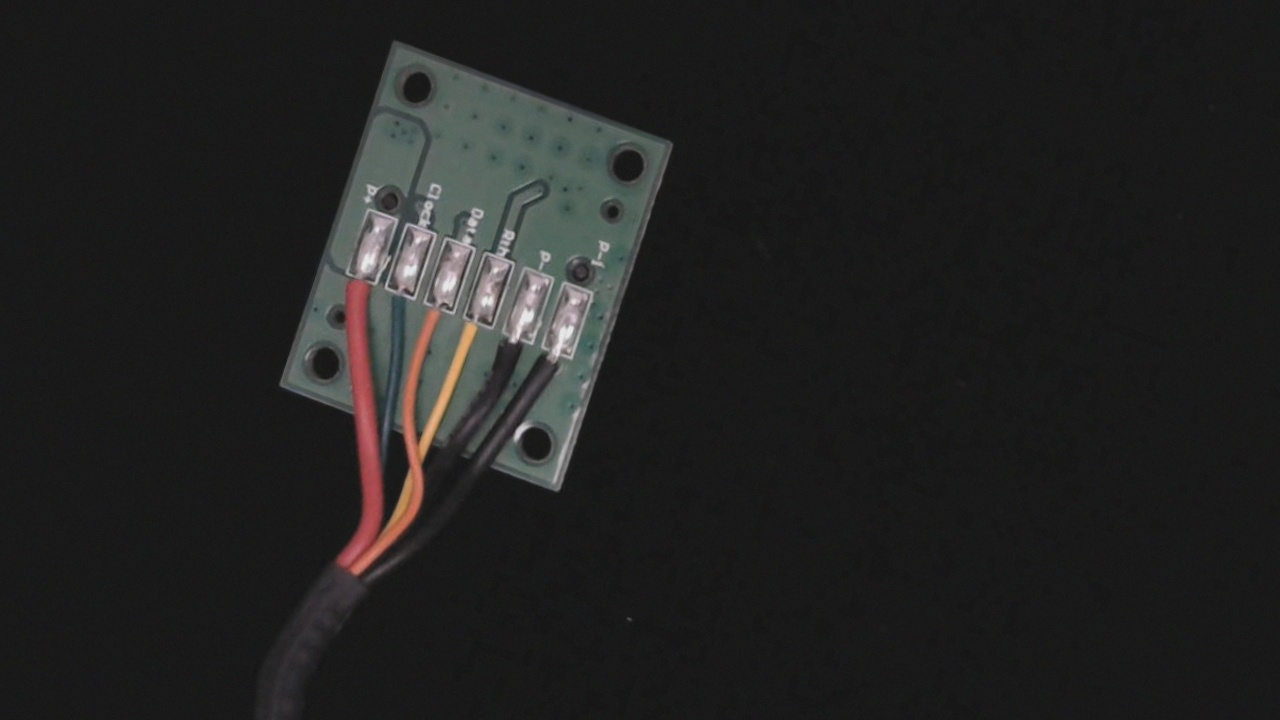Black: (479, 312, 540, 402)
Black1: (525, 325, 583, 408)
Green: (369, 269, 425, 346)
Orange: (405, 280, 462, 358)
Red: (327, 256, 385, 334)
Yellow: (441, 297, 503, 387)
